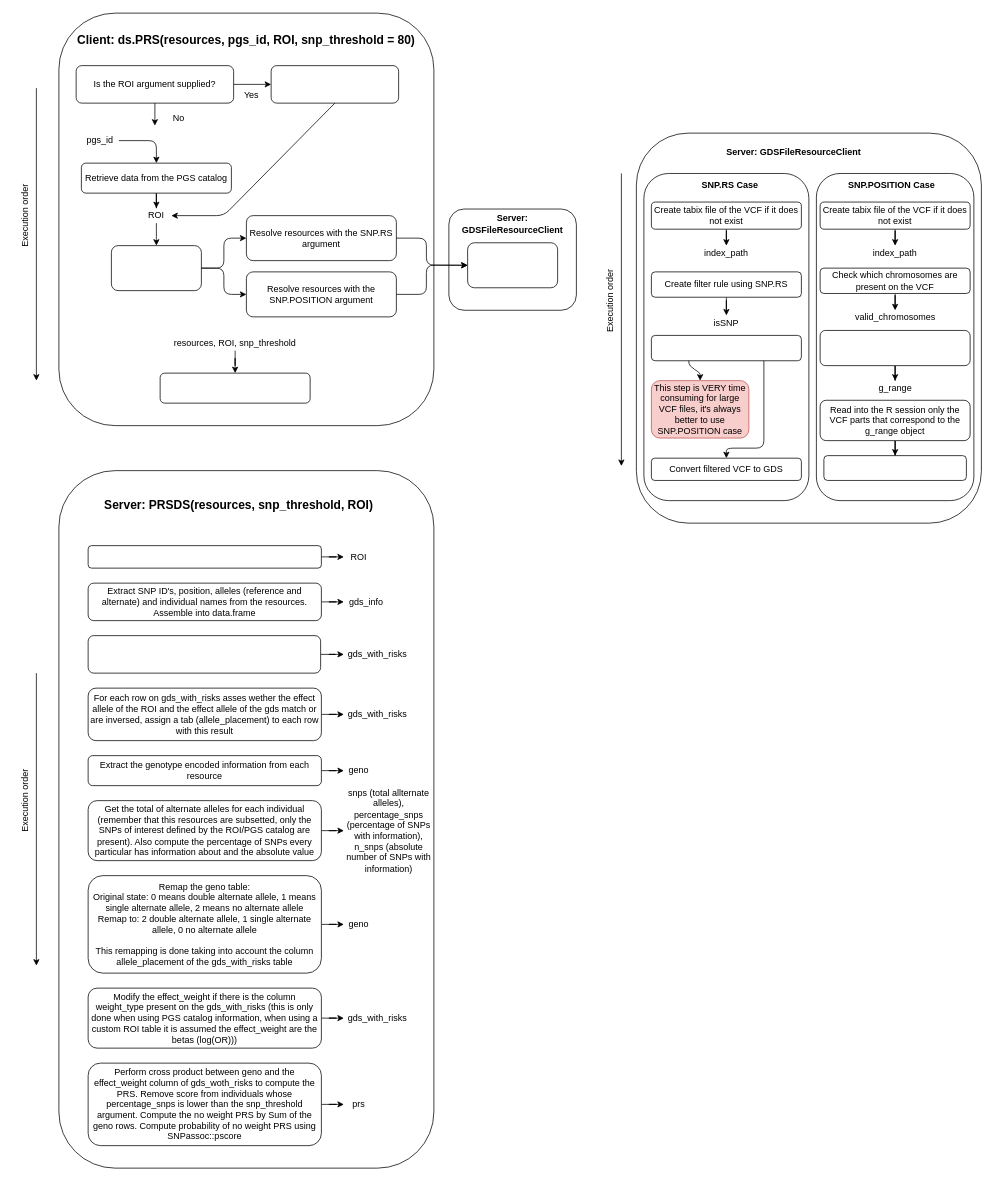
This 995x1181 diagram has some shape labels left out. Each missing label, with the centre of its shape:
"Assemble ROI and assign the right column types" goes at (x=204, y=556).
"Call server function" goes at (x=234, y=387).
"Check consistency of ROI and recode it to match the pipeline" goes at (x=334, y=84).
"Convert to GDS" goes at (x=894, y=467).
"Create genomic ranges object using the valid_chromosomes and the SNP.POSITIONS" goes at (x=894, y=348).
"Filter the VCF with isSNP" goes at (x=726, y=348).
"Get resource, subset and load into the R session" goes at (x=512, y=265).
"Perform table joint between gds_info and ROI" goes at (x=204, y=654).
"The ROI contains SNPs IDs or SNPs positions?" goes at (x=156, y=268).
